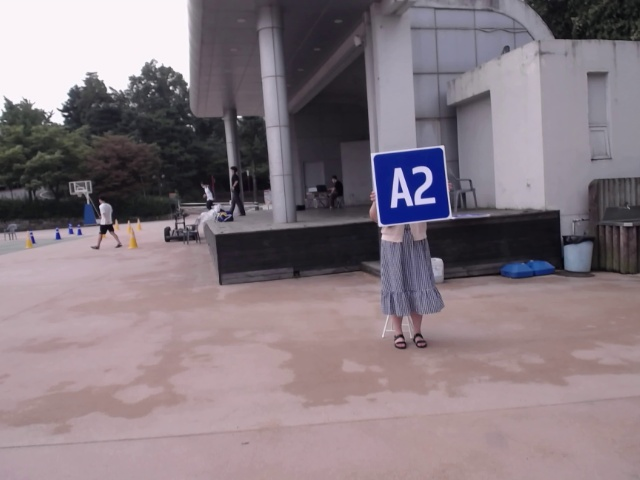delivery_a2: (372, 147, 451, 225)
